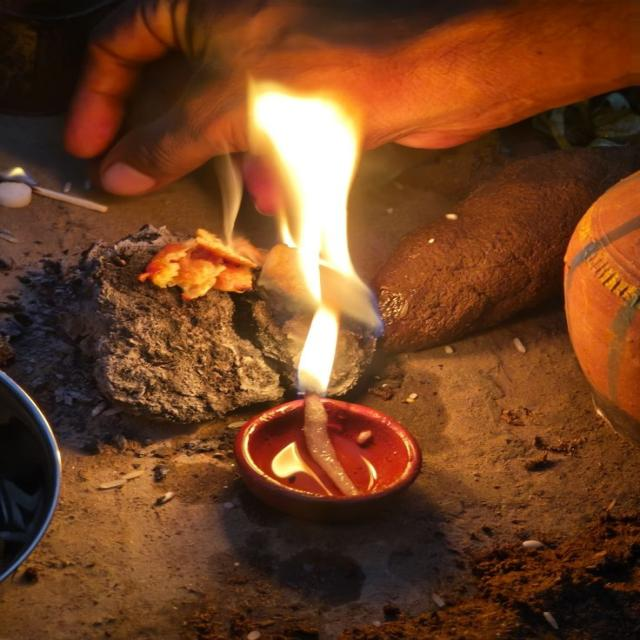fire: (245, 76, 383, 396)
